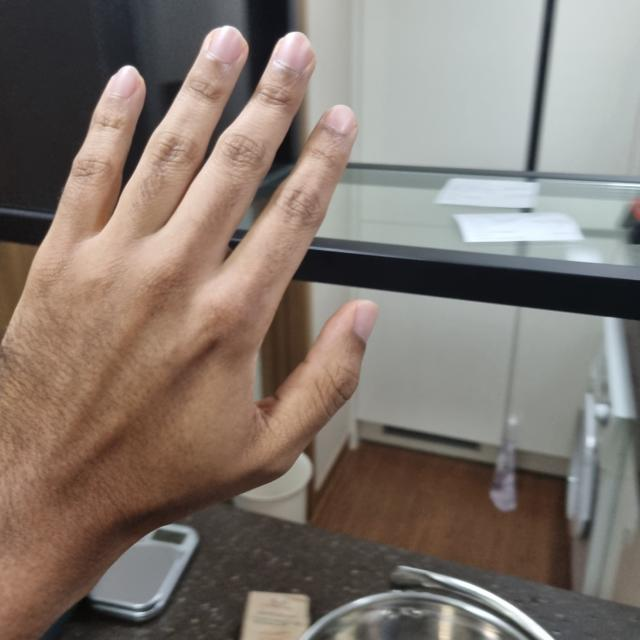Paper: (0, 26, 374, 544)
